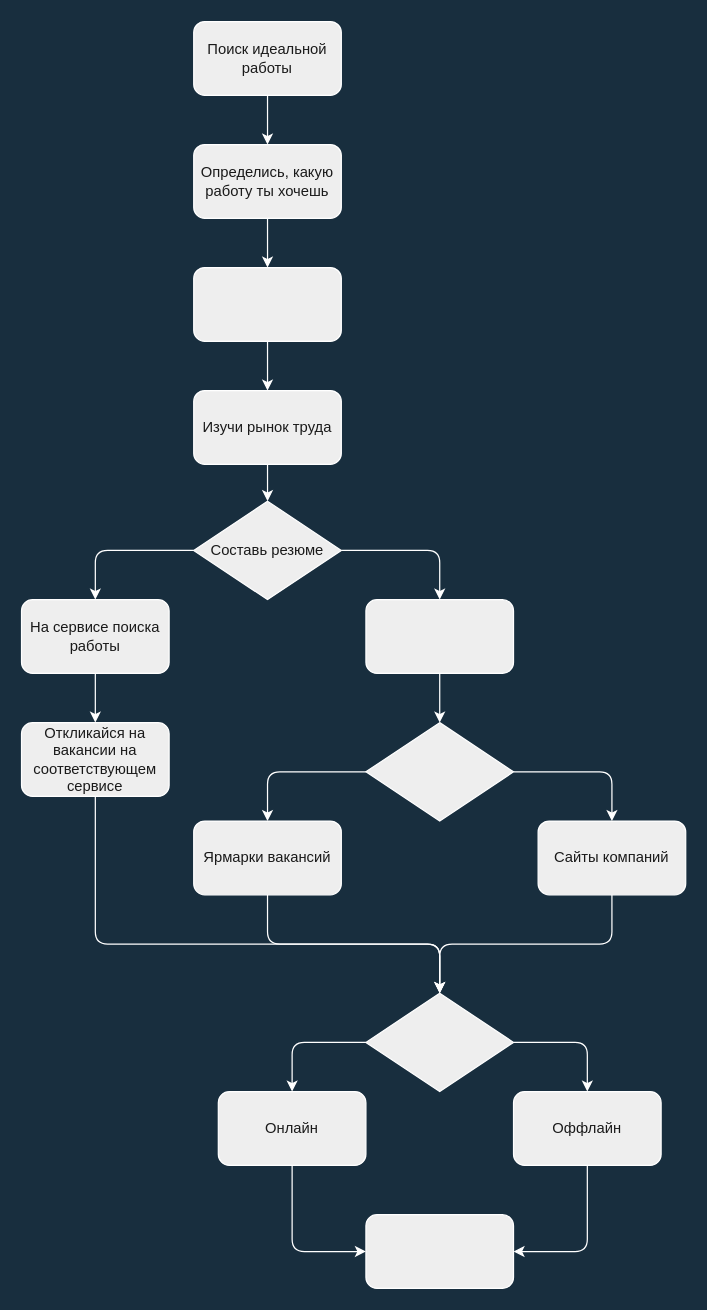
Image size: 707x1310. Some labels were removed from this diagram. The centre of each missing label's shape, as x and y in pixels:
"На сервисе подготовки резюме" belongs at (439,635).
"Начинай работать" belongs at (439,1250).
"Откликайся на вакансии" belongs at (439,771).
"Пройди собеседование" belongs at (439,1042).
"Создай портфолио" belongs at (266,303).
